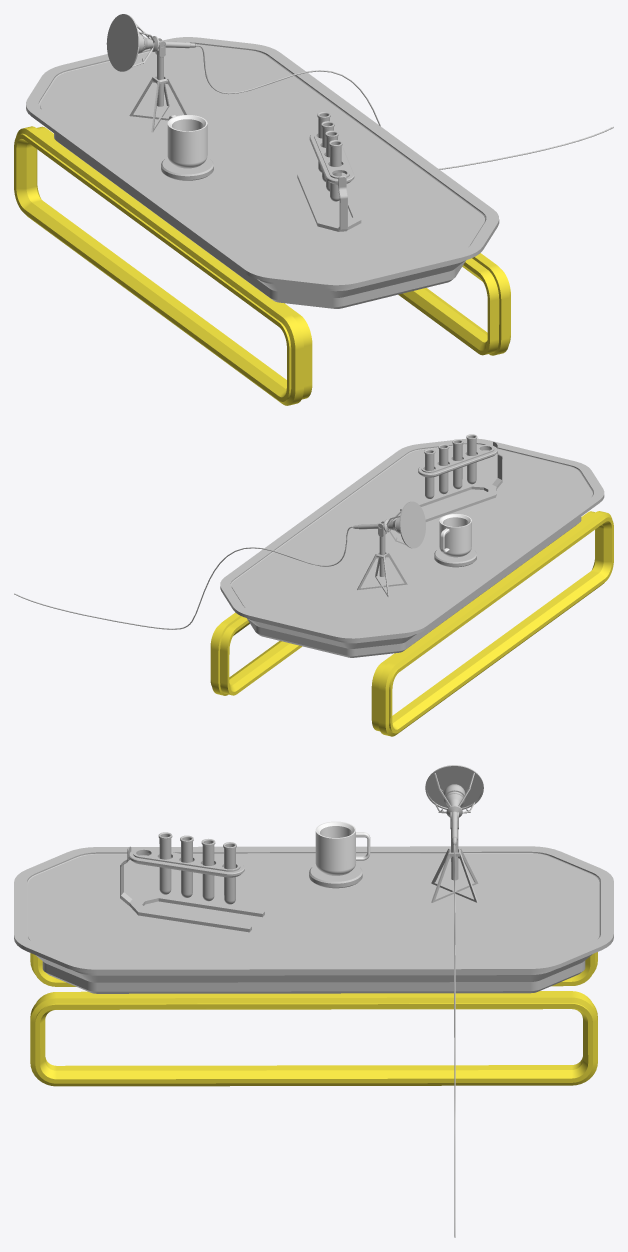
Rendered from mike_desk.glb.
3 renders of one model, top to bottom at view 1: azimuth 30°, elevation 25°; view 2: azimuth 150°, elevation 25°; view 3: azimuth 270°, elevation 25°, orthographic. The views are drawn at different scales.
Visible parts, largest first — view 1: Body64, Body69, Body75, Body74, Body66, Body73, Body76, Body65, Body71; view 2: Body64, Body69, Body75, Body74, Body66, Body73, Body76, Body65, Body71, Body67, Body70, Body72 (+1 smaller); view 3: Body64, Body74, Body75, Body66, Body73, Body76, Body69, Body71, Body65, Body79, Body70, Body68 (+2 smaller).
Boxes of the visible parts, box(x1,y1,x2,y2) form: Body64: box(26, 44, 499, 308); Body69: box(14, 126, 312, 405); Body75: box(26, 37, 499, 286); Body74: box(398, 253, 510, 355); Body66: box(297, 131, 361, 231); Body73: box(167, 115, 207, 168); Body76: box(107, 15, 137, 70); Body65: box(197, 45, 613, 169); Body71: box(161, 157, 213, 180); Body64: box(220, 444, 604, 657); Body69: box(371, 511, 613, 736); Body75: box(220, 438, 604, 639); Body74: box(210, 612, 302, 695); Body66: box(400, 442, 502, 521); Body73: box(439, 514, 471, 557); Body76: box(401, 502, 425, 547); Body65: box(14, 526, 352, 629); Body71: box(434, 548, 476, 567); Body67: box(424, 449, 435, 498); Body70: box(466, 434, 477, 484); Body72: box(452, 439, 463, 489); Body64: box(14, 848, 613, 993); Body74: box(30, 991, 597, 1086); Body75: box(14, 846, 613, 970); Body66: box(120, 846, 264, 932); Body73: box(315, 821, 370, 875); Body76: box(427, 767, 482, 807); Body69: box(30, 952, 597, 986); Body71: box(309, 864, 362, 888); Body65: box(454, 844, 455, 1237); Body79: box(443, 784, 465, 845); Body70: box(158, 832, 172, 894); Body68: box(201, 838, 215, 901).
Bounding box in the file's own units: 0.0445 × 0.0184 × 0.0419.
